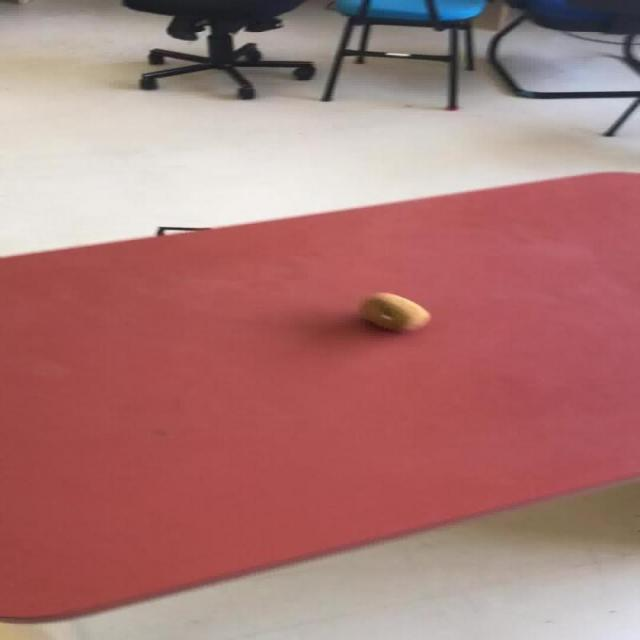Kiwi: (358, 291, 430, 332)
